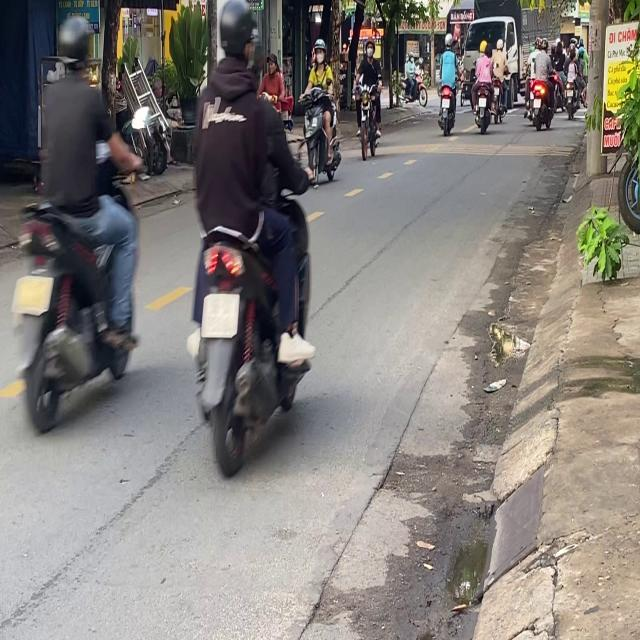helmet: (215, 0, 257, 72), (56, 15, 92, 77), (313, 36, 326, 64), (365, 37, 375, 59)
licenseplate: (181, 0, 318, 474), (8, 12, 144, 432), (298, 36, 342, 186), (353, 37, 384, 158)
nohelmet: (201, 293, 238, 336), (12, 274, 52, 312)
